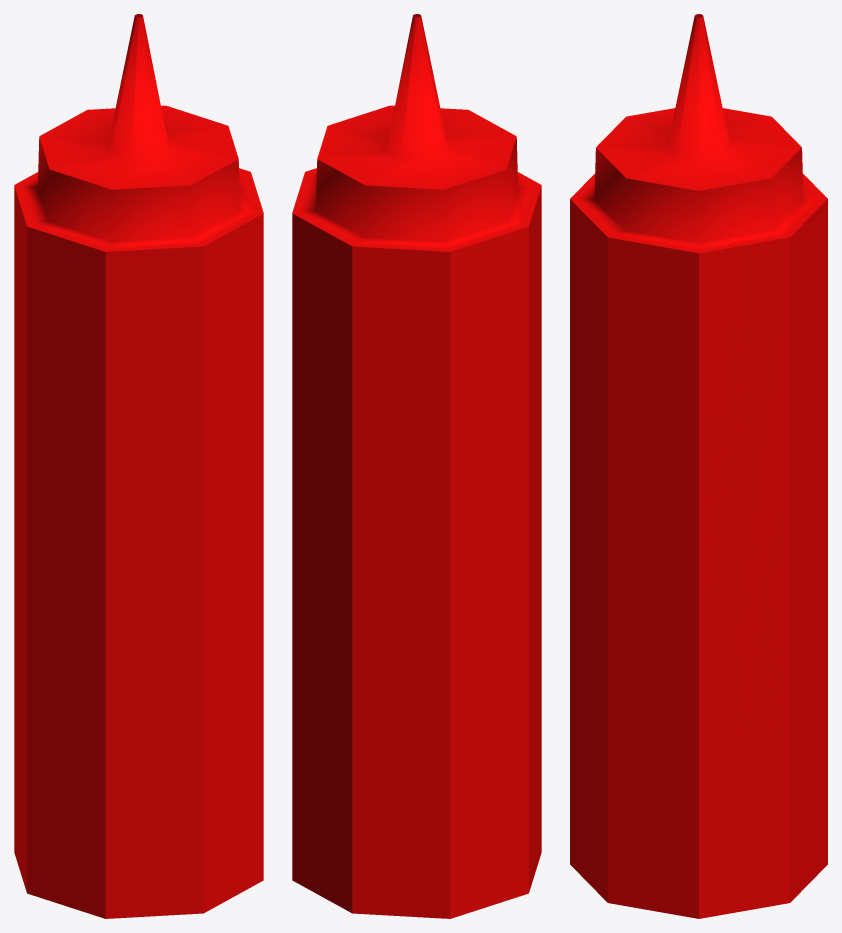
The model's file is KetchupBottle.fbx.
The picture shows the model from 3 angles, left to right: view 1: azimuth 30°, elevation 25°; view 2: azimuth 150°, elevation 25°; view 3: azimuth 270°, elevation 25°; orthographic projection.
Parts seen in each view (by area): view 1: pCylinder1; view 2: pCylinder1; view 3: pCylinder1.
Boxes of the visible parts, x1,y1,x2,y2 form: pCylinder1: (14,14,263,918); pCylinder1: (292,14,541,918); pCylinder1: (570,14,827,918).
Size of the model in its own units: 31.29 by 114 by 31.29.
